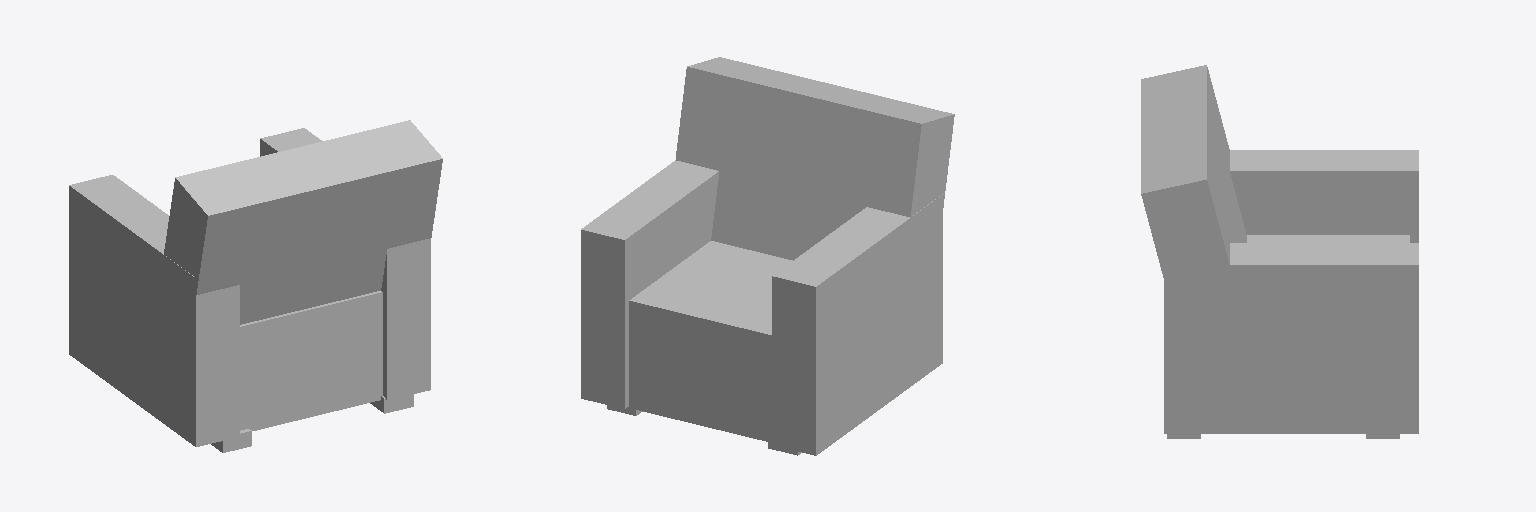
Rendered from sofa1x.obj.
3 views of the same model, side by side, from view 1: azimuth 30°, elevation 25°; view 2: azimuth 150°, elevation 25°; view 3: azimuth 270°, elevation 25° (orthographic).
Parts seen in each view (by area): view 1: encosto, braco esquerdo, sofa1, braco direito; view 2: encosto, braco esquerdo, sofa1, braco direito; view 3: braco direito, encosto, braco esquerdo, sofa1.
Boxes of the visible parts, x1,y1,x2,y2 form: encosto: [164, 120, 442, 324]; braco esquerdo: [69, 175, 239, 446]; sofa1: [240, 291, 382, 430]; braco direito: [260, 128, 430, 400]; encosto: [676, 57, 954, 260]; braco esquerdo: [772, 194, 942, 455]; sofa1: [627, 241, 792, 442]; braco direito: [581, 160, 718, 408]; braco direito: [1164, 243, 1418, 433]; encosto: [1141, 65, 1250, 357]; braco esquerdo: [1230, 150, 1418, 242]; sofa1: [1247, 235, 1409, 242].
Size of the model in its own units: 1 by 1.09 by 1.02.